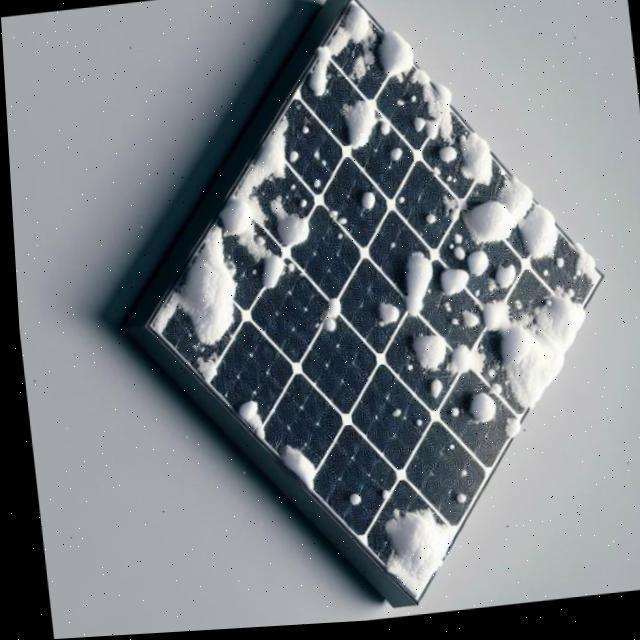Anomaly Solar Panel: (97, 2, 640, 607)
Snow: (139, 222, 277, 388), (473, 276, 608, 419), (451, 176, 569, 295), (218, 118, 289, 290), (297, 6, 398, 118), (355, 498, 456, 604), (382, 72, 479, 177), (259, 193, 314, 255), (341, 99, 394, 155), (456, 135, 496, 195), (273, 446, 321, 495), (378, 32, 415, 90), (556, 251, 600, 299), (402, 257, 433, 322), (406, 336, 446, 380), (233, 401, 271, 444), (480, 265, 519, 305), (443, 349, 487, 382), (460, 397, 495, 431), (316, 301, 342, 340), (464, 255, 486, 284), (373, 308, 398, 332), (449, 314, 477, 335), (498, 423, 518, 446), (359, 194, 377, 216), (423, 384, 440, 406)
